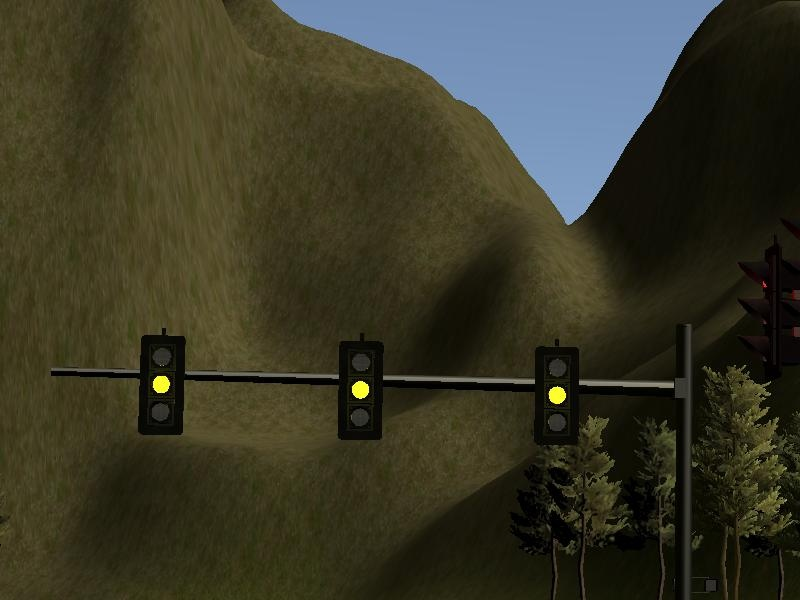YELLOW: (136, 333, 189, 439), (332, 338, 385, 444), (532, 343, 585, 449)
